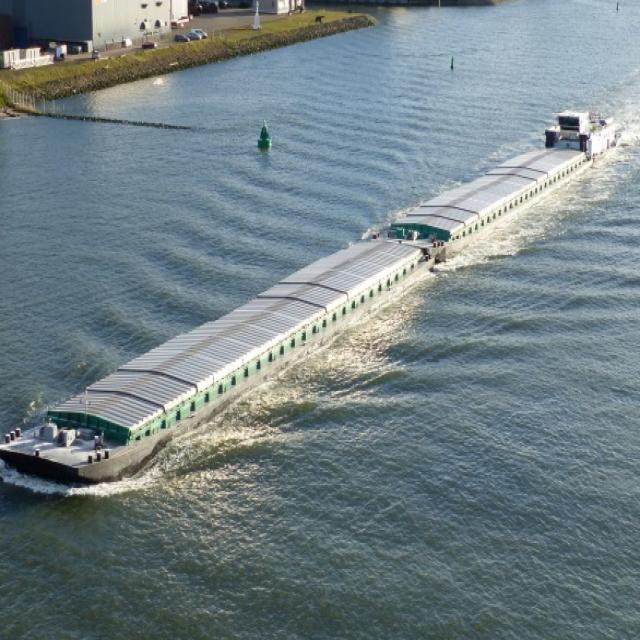tugboat: (540, 105, 625, 166)
